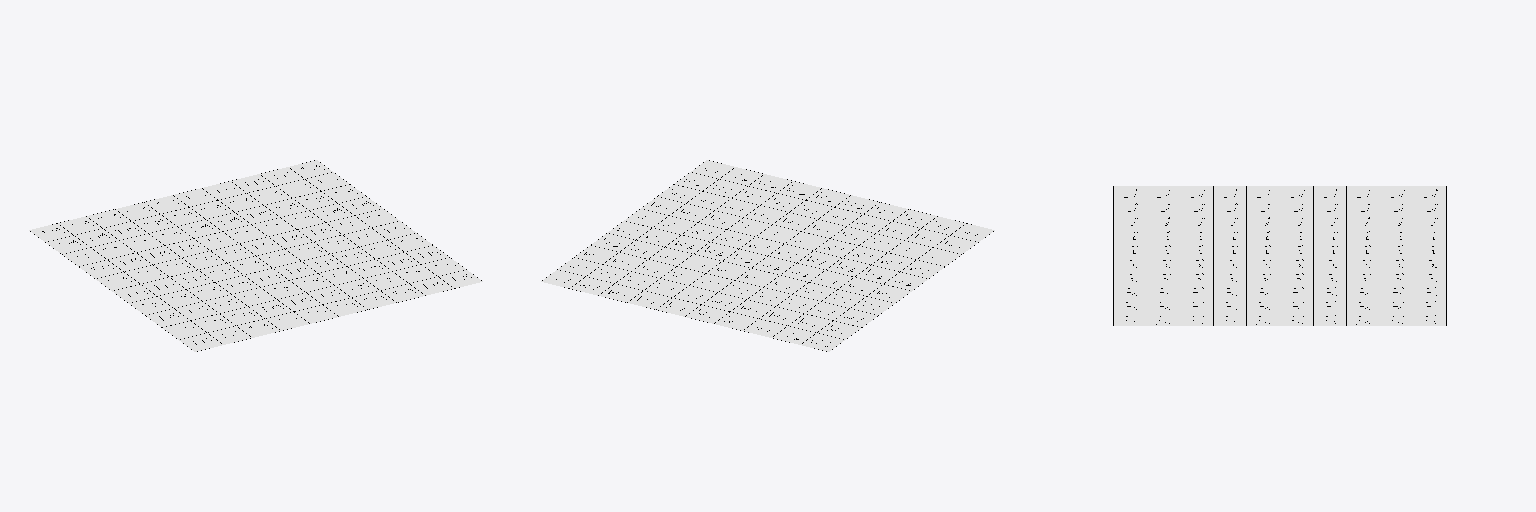
The picture shows the model from 3 angles: view 1: azimuth 30°, elevation 25°; view 2: azimuth 150°, elevation 25°; view 3: azimuth 270°, elevation 25°; orthographic projection.
Parts seen in each view (by area): view 1: Plane; view 2: Plane; view 3: Plane.
Part boxes in pixels (x1,y1,x2,y2): Plane: (29, 160, 482, 351); Plane: (541, 160, 994, 351); Plane: (1113, 186, 1446, 325).
Bounding box in the file's own units: 10 × 0 × 10.
1 materials, 1 textured.